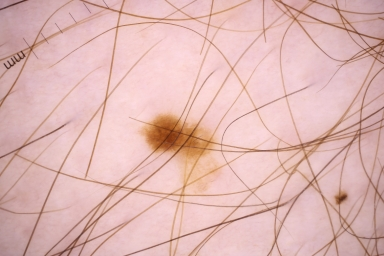nevus: (147, 115, 214, 154)
